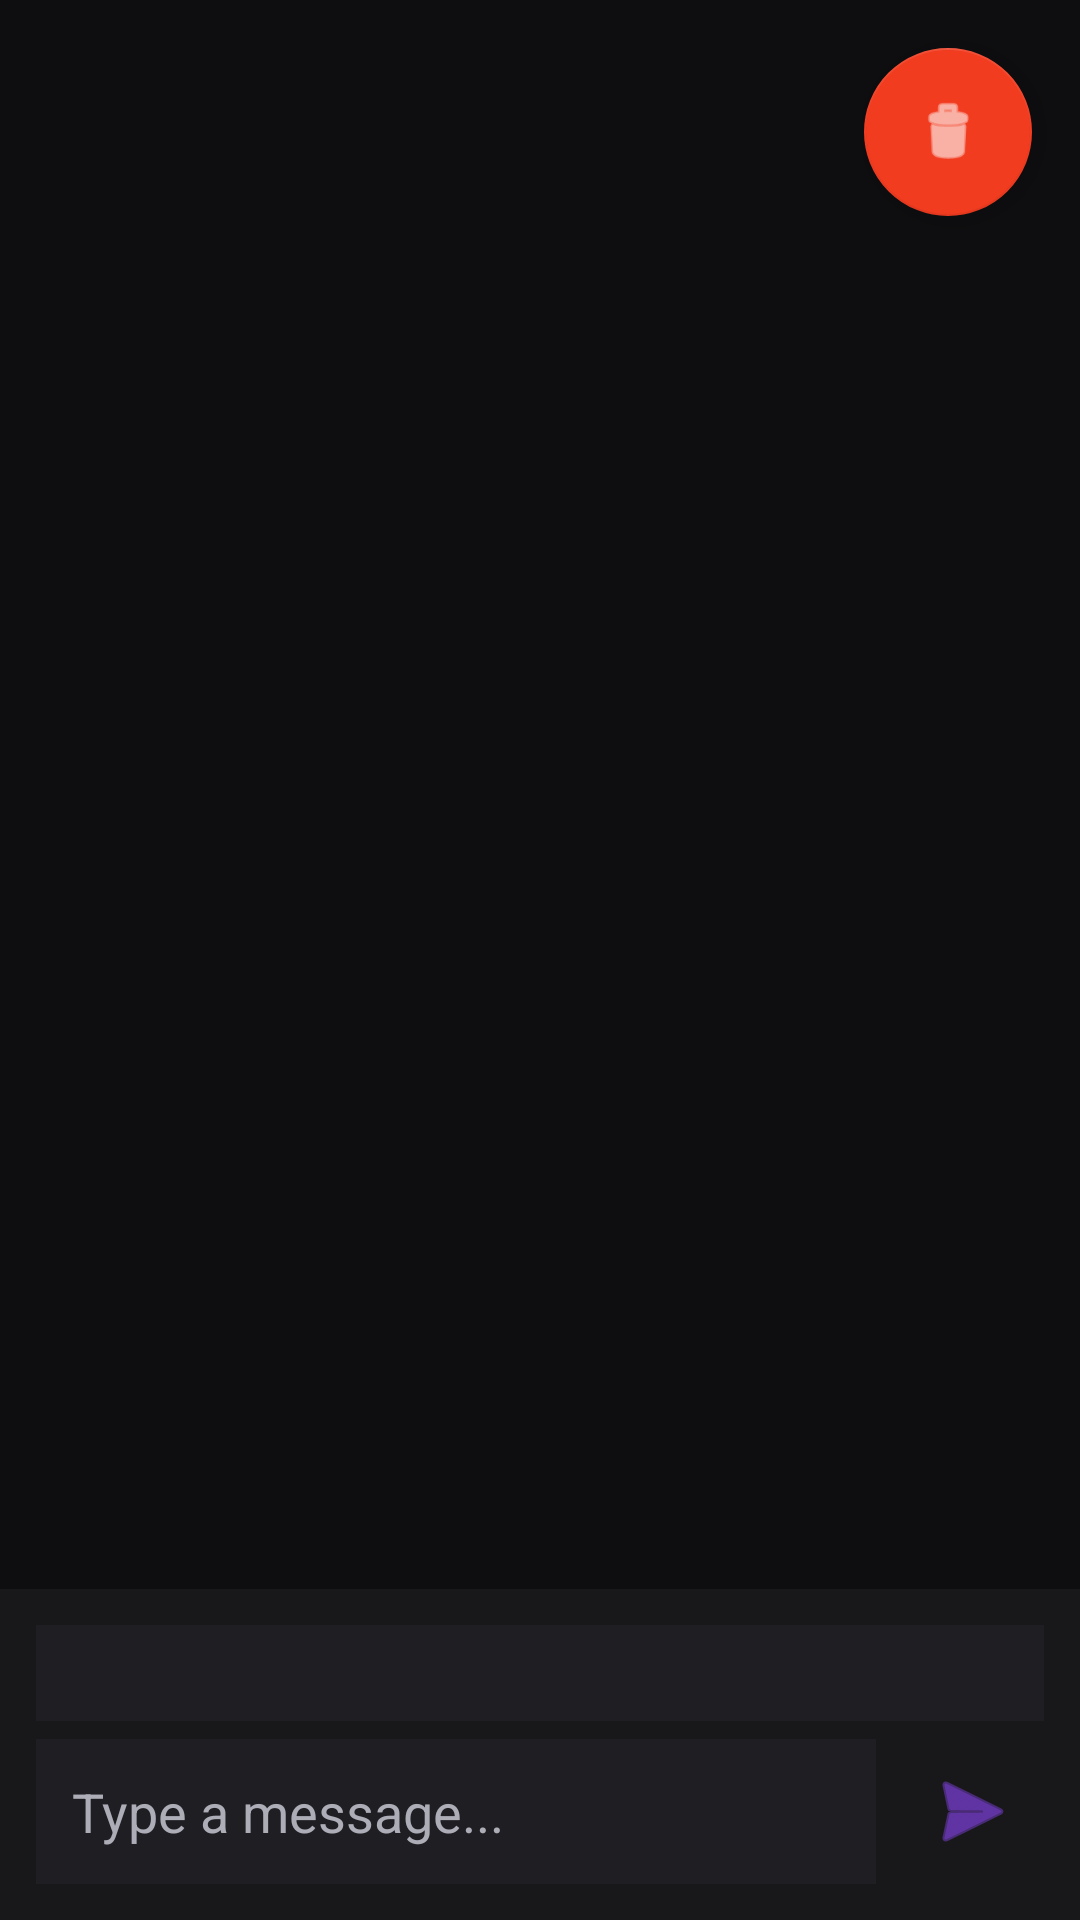

Icons on this 1080 x 1920 Android screen, each with the point to tap as (x,y):
Clear chat: (948,132)
Send message: (973,1811)
